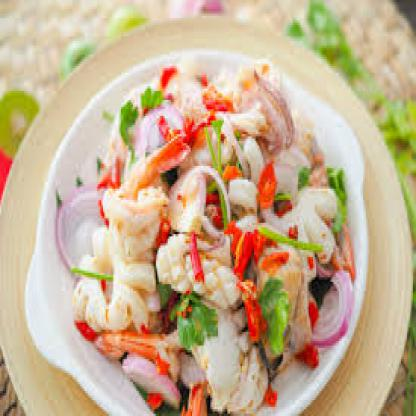Yum: (45, 57, 366, 414)
